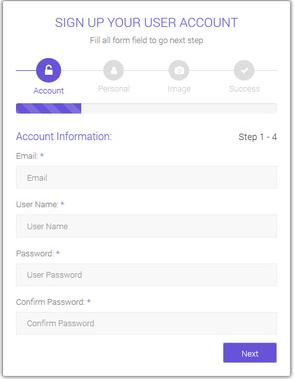button: (222, 341, 279, 364)
field: (15, 211, 279, 239), (15, 260, 278, 288), (15, 164, 277, 191), (13, 310, 280, 335)
field_with_label: (13, 150, 278, 193), (13, 199, 282, 241), (14, 249, 282, 290), (11, 298, 282, 336)
